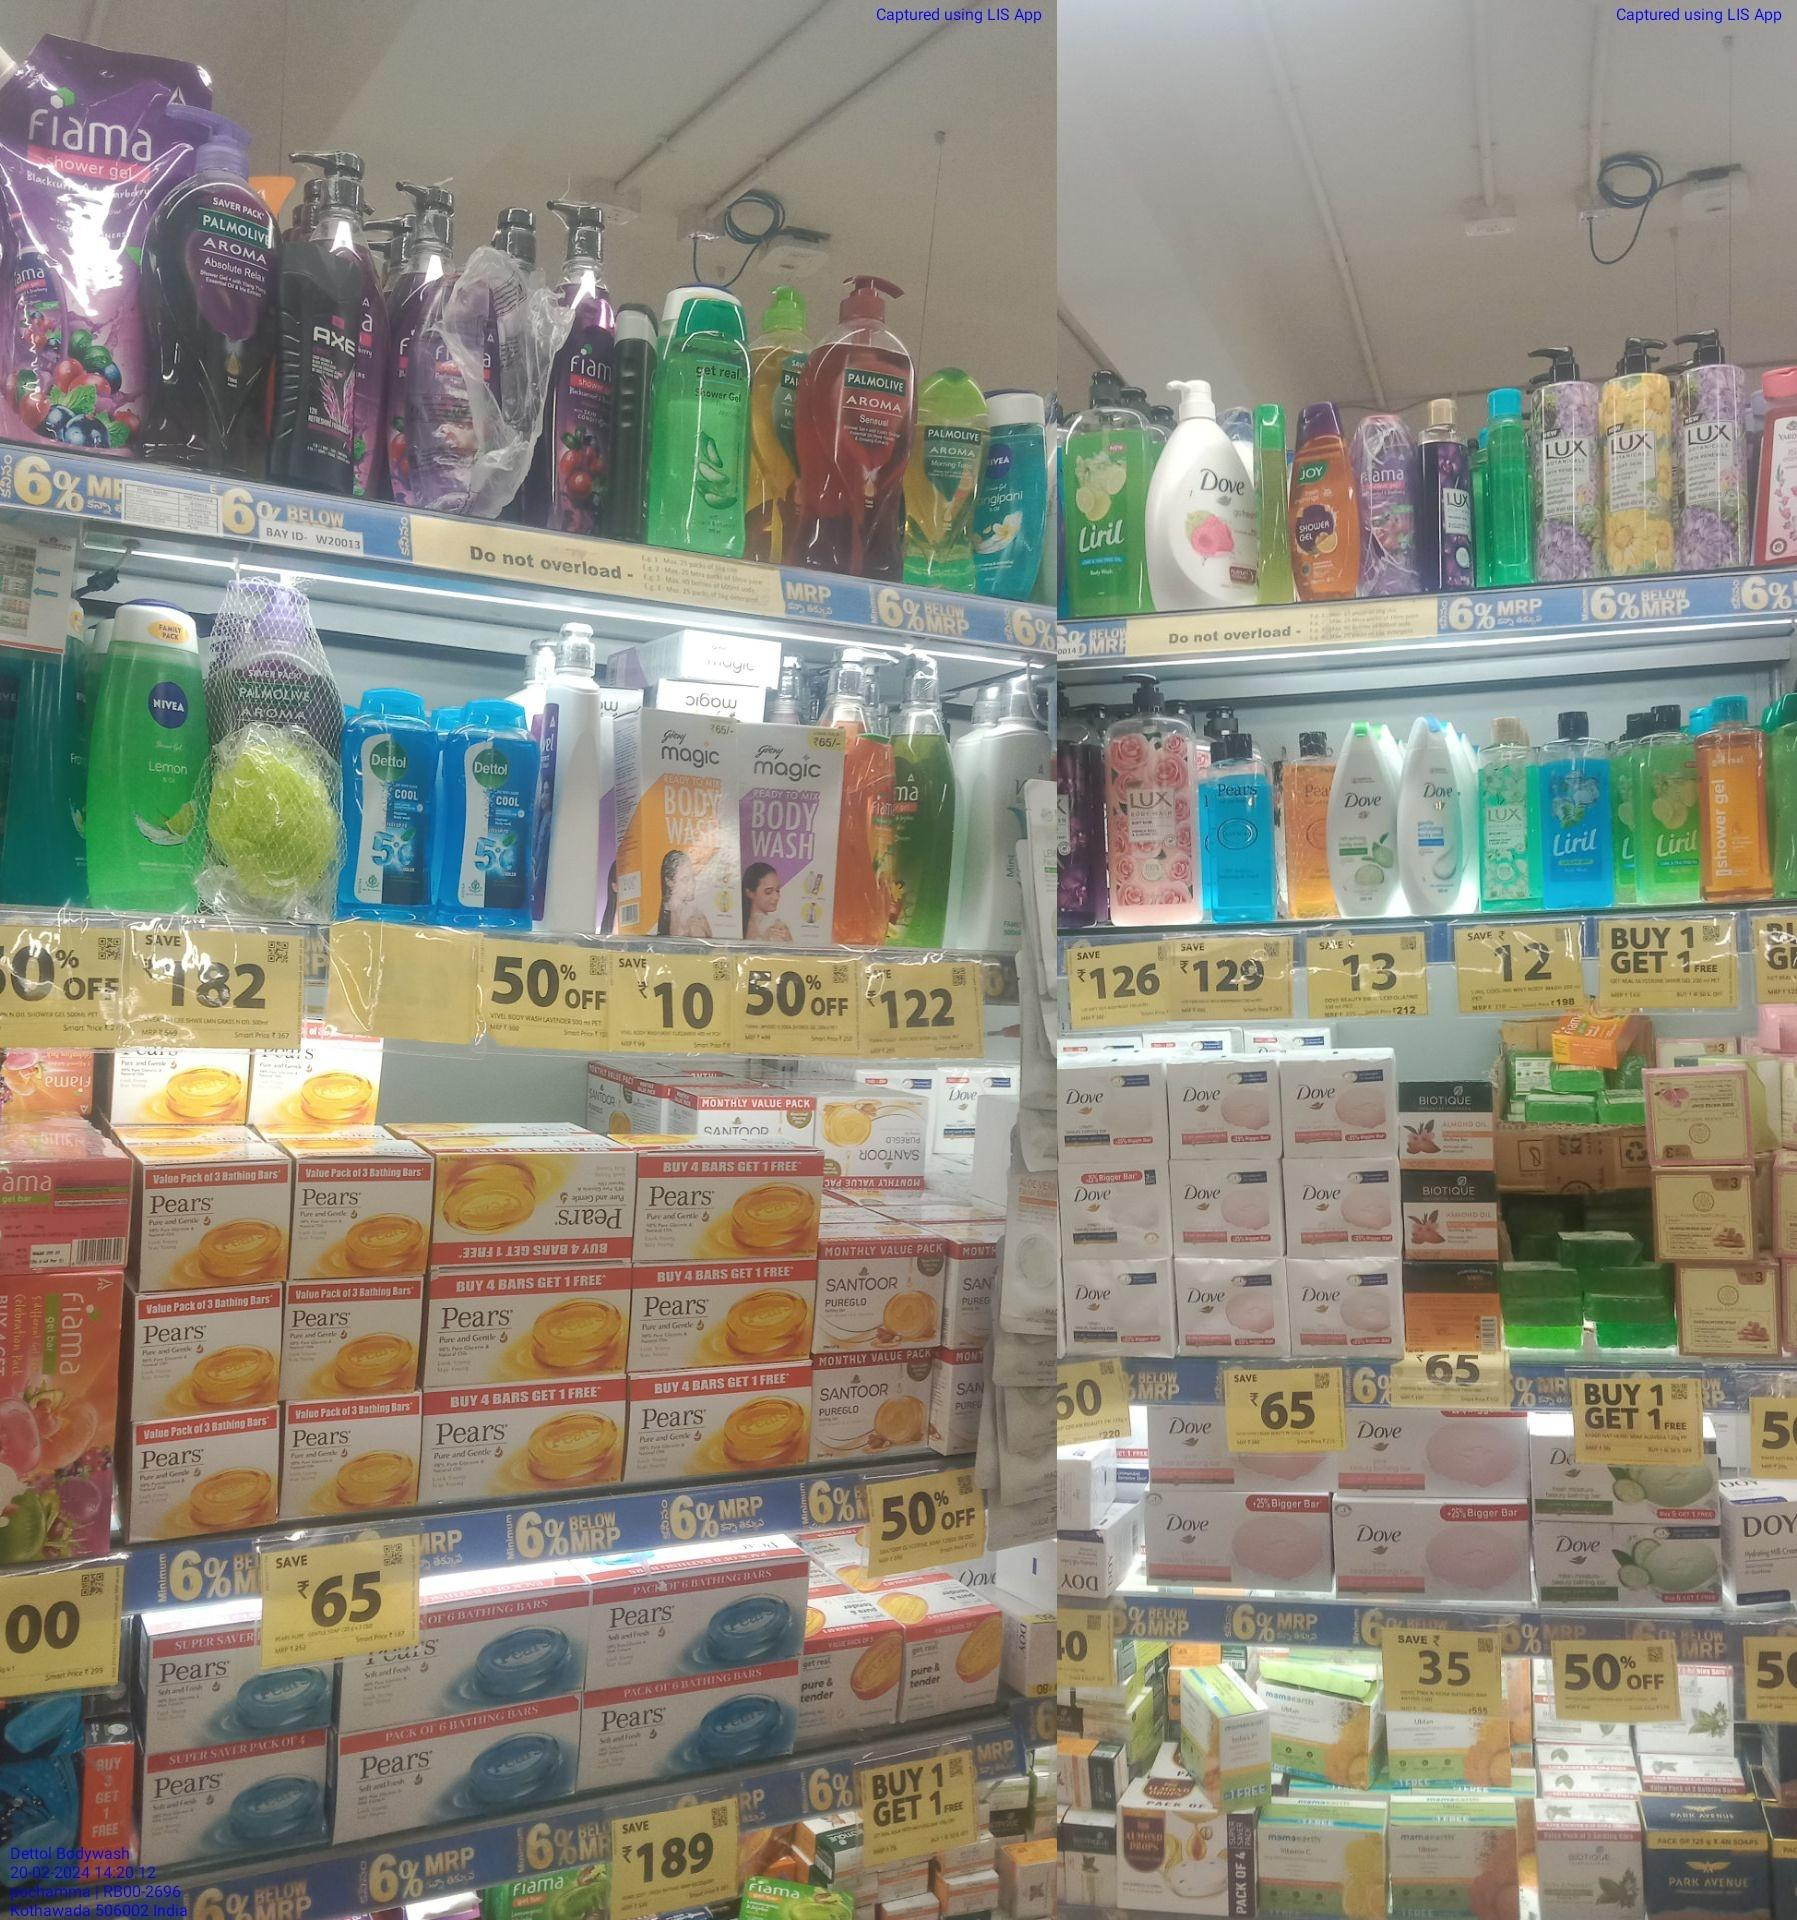Dettol_Bodywash_Cool: (444, 691, 539, 925), (348, 682, 437, 919)
Dove_Gentle_Exfoliating_Body_Wash_250ML: (1395, 718, 1464, 914)
Dove_Refreshing_Body_Wash_250ML: (1327, 723, 1393, 919)
Joy_Shower_Gel_Mandarin_and_Lemongrass_250ML: (1289, 397, 1360, 601)
Liril_Cooling_Mint_Body_Wash_250ML: (1540, 711, 1615, 905)
Liril_Lime_and_Tea_Tree_Oil_Body_Wash_250ML: (1633, 702, 1697, 903)
Lux_Black_Orchid_Scent_and_Juniper_Oil_Body_Wash_245ML: (1419, 390, 1476, 589)
Lux_Body_Wash_Skin_Detox_Freesia_Scent_and_Alove_Vera_245ML: (1474, 716, 1539, 912)
Nivea_Shower_Gel_Lemon_and_Oil_250ML: (91, 608, 209, 907)
Palmolive_Aroma_Morning_Tonic_Shower_Gel_250ML: (915, 365, 986, 586)
Pears_Pure_Glycerin_and_Mint_Extracts_Body_Wash_250ML: (1208, 729, 1277, 919)
